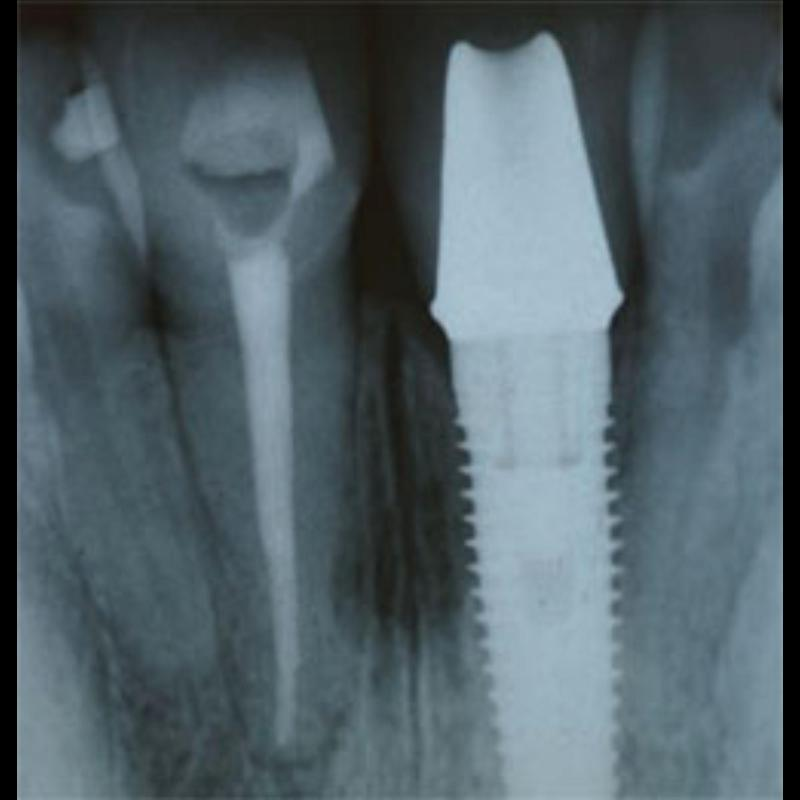nobel: (416, 14, 658, 800)
